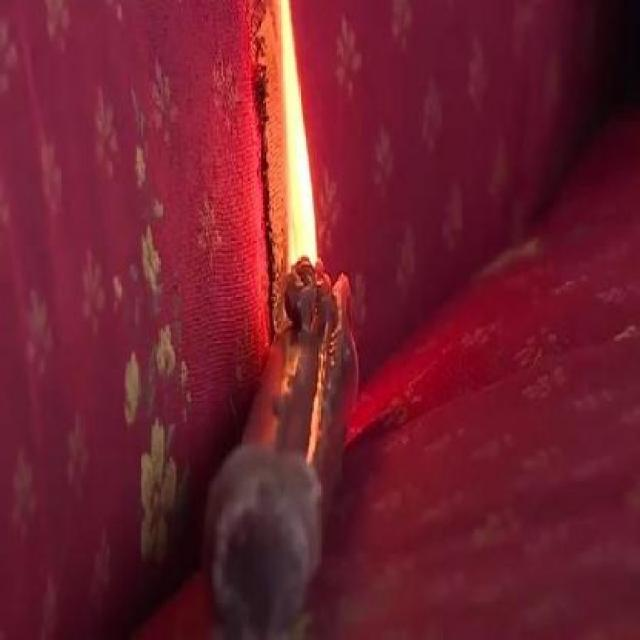fire: (270, 15, 342, 262)
